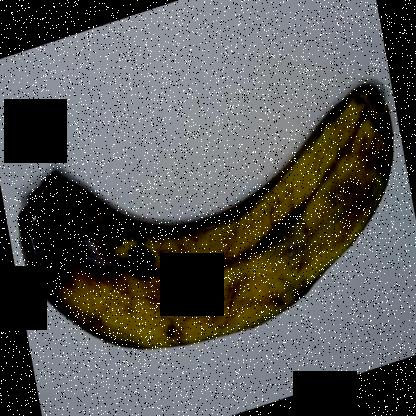overripe: (11, 77, 398, 361)
rotten: (8, 176, 120, 325)
